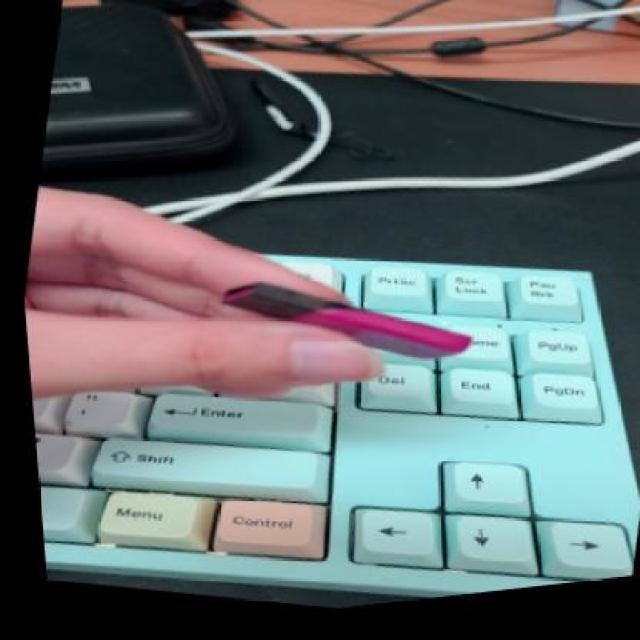Flashdisk: (202, 256, 476, 396)
